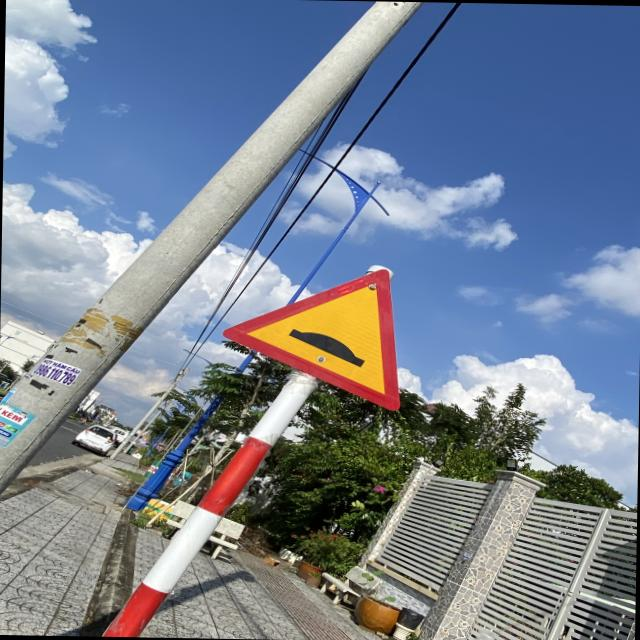Duong_Cong_Ben_Phai: (218, 264, 404, 410)
